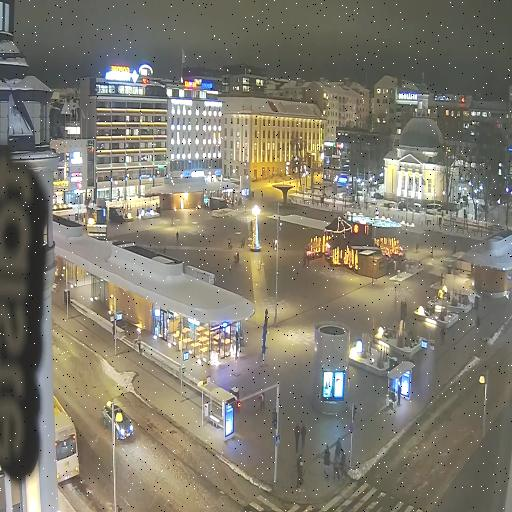Bus: (54, 388, 79, 483)
Car: (101, 401, 133, 439)
